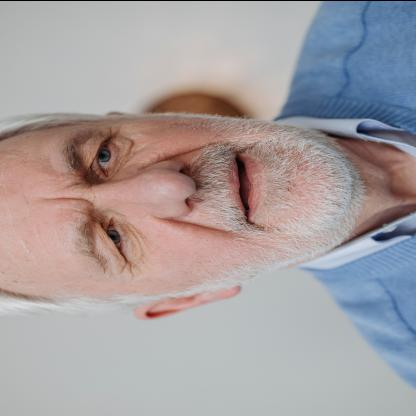Eye: (97, 214, 140, 268), (86, 133, 124, 180)
Mouth: (225, 148, 273, 228)
Nose: (93, 158, 198, 218)
